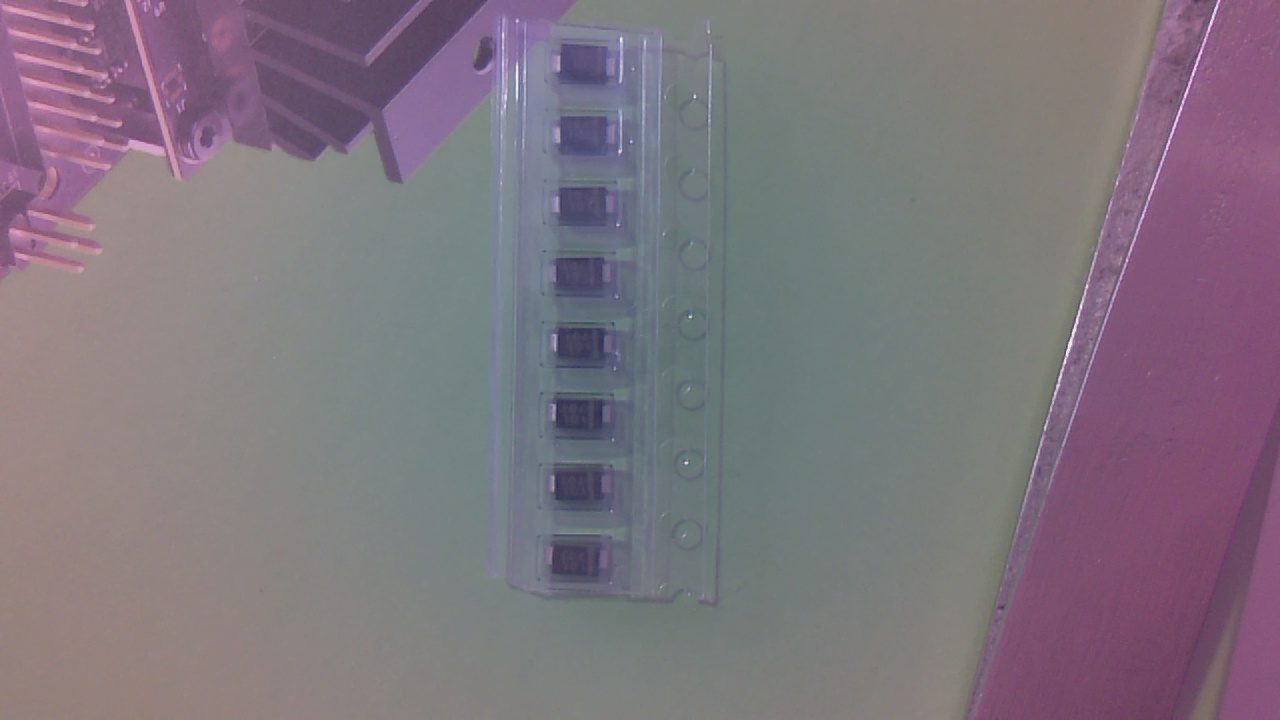Diode: (556, 45, 623, 87), (551, 468, 619, 509), (553, 399, 620, 439), (549, 547, 617, 585), (557, 119, 624, 157), (551, 260, 619, 297), (556, 189, 622, 226), (556, 328, 619, 366)
